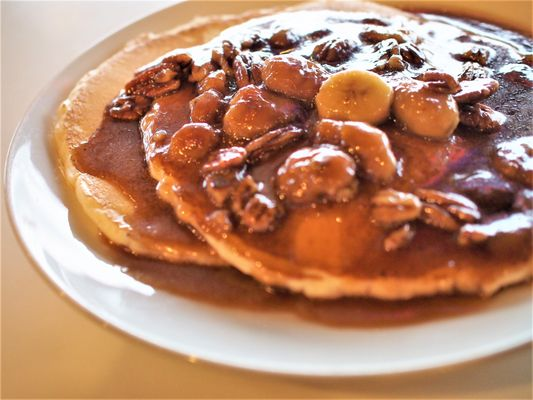curry: (1, 0, 500, 392)
sandwich: (52, 6, 531, 306)
